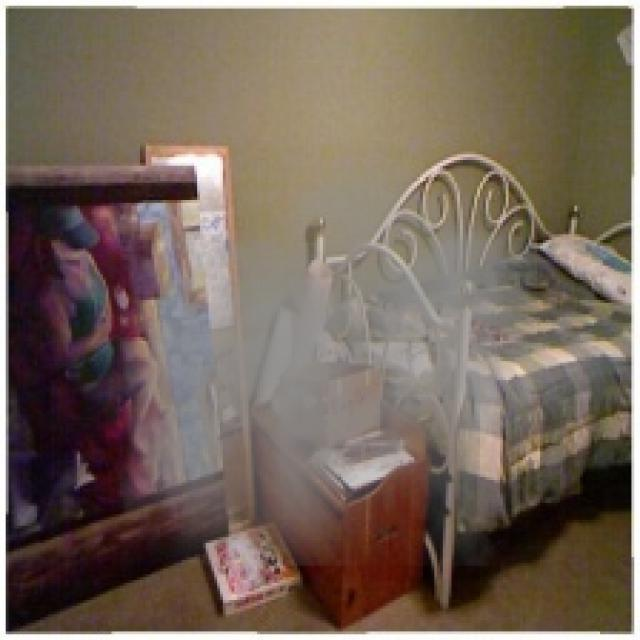Smoke: (117, 143, 537, 566)
